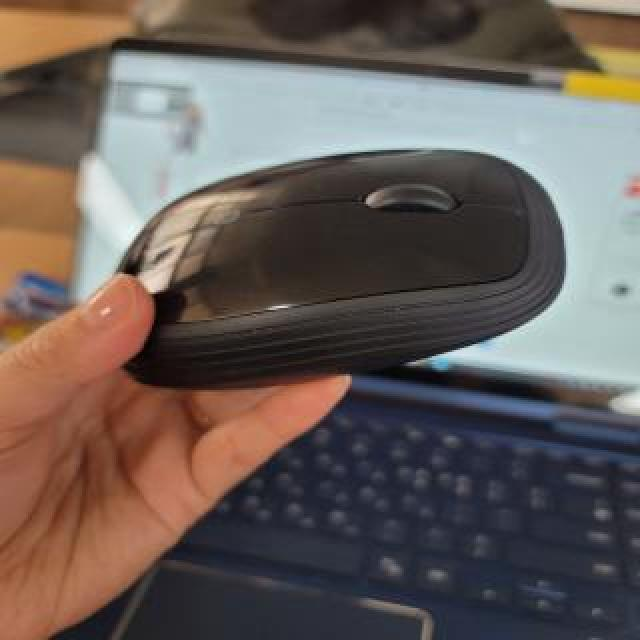laptop_computer: (60, 28, 638, 640)
mouse: (115, 138, 558, 396)
